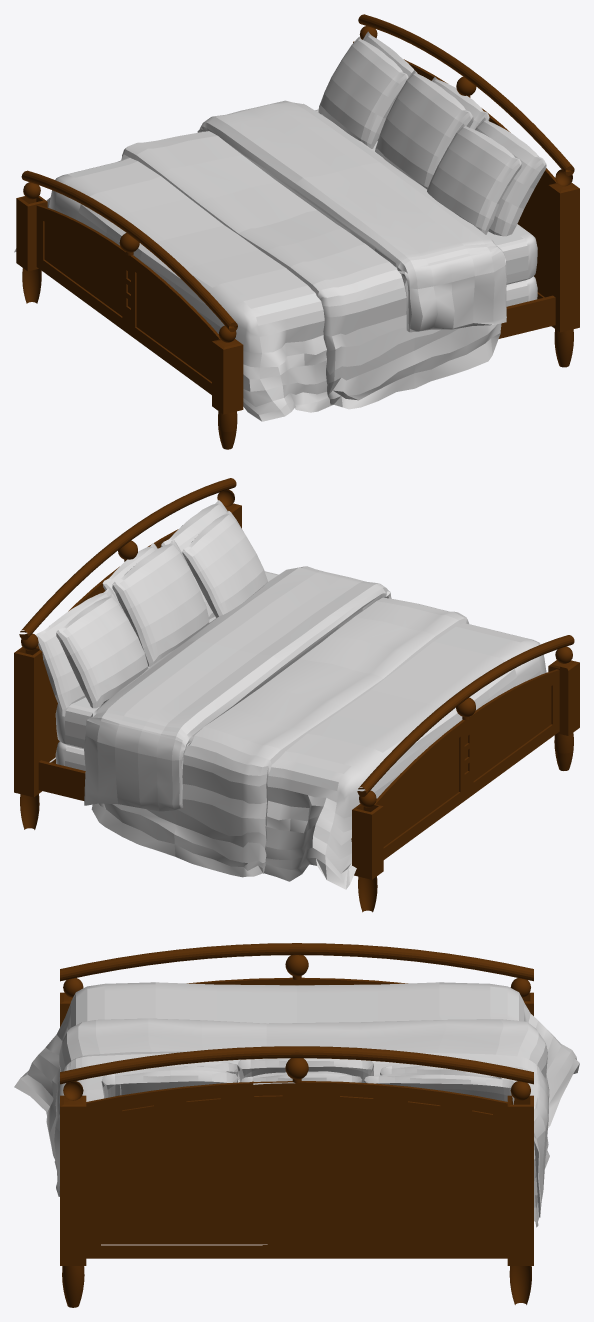
File: bed.glb
3 views of the same model, one above another, from view 1: azimuth 30°, elevation 25°; view 2: azimuth 150°, elevation 25°; view 3: azimuth 270°, elevation 25° (orthographic). The views are drawn at different scales.
Visible parts, largest first — view 1: 0_Velvet Red_0 (×6), WOOD (×13); view 2: 0_Velvet Red_0 (×7), WOOD (×13); view 3: WOOD (×11), 0_Velvet Red_0 (×6).
Boxes of the visible parts, bbox=[...] form: 0_Velvet Red_0 (×6): bbox=[14, 36, 546, 421]; WOOD (×13): bbox=[16, 64, 579, 449]; 0_Velvet Red_0 (×7): bbox=[36, 500, 546, 889]; WOOD (×13): bbox=[14, 540, 579, 912]; WOOD (×11): bbox=[60, 979, 533, 1307]; 0_Velvet Red_0 (×6): bbox=[14, 982, 579, 1227].
Size of the model in its own units: 80.5 by 48.78 by 96.73.
